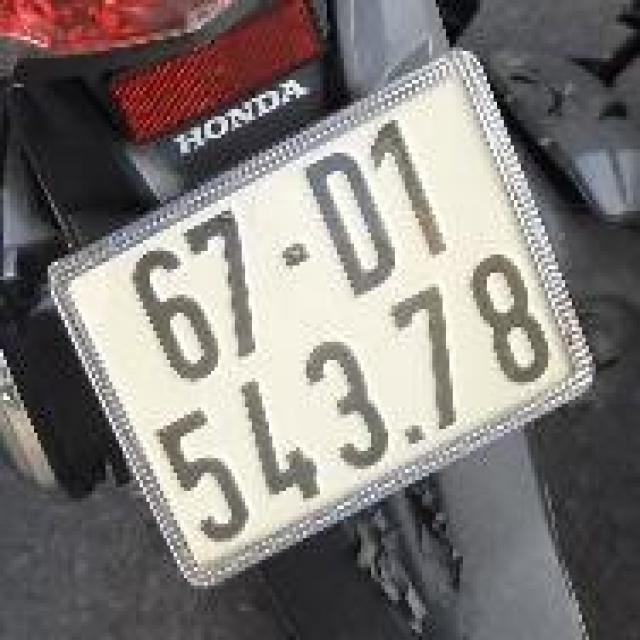1: (358, 108, 458, 275)
3: (290, 322, 403, 482)
4: (218, 360, 334, 521)
5: (144, 395, 263, 556)
6: (114, 235, 234, 399)
7: (175, 197, 293, 365), (377, 276, 488, 439)
8: (457, 240, 562, 395)
D: (291, 135, 414, 313)
